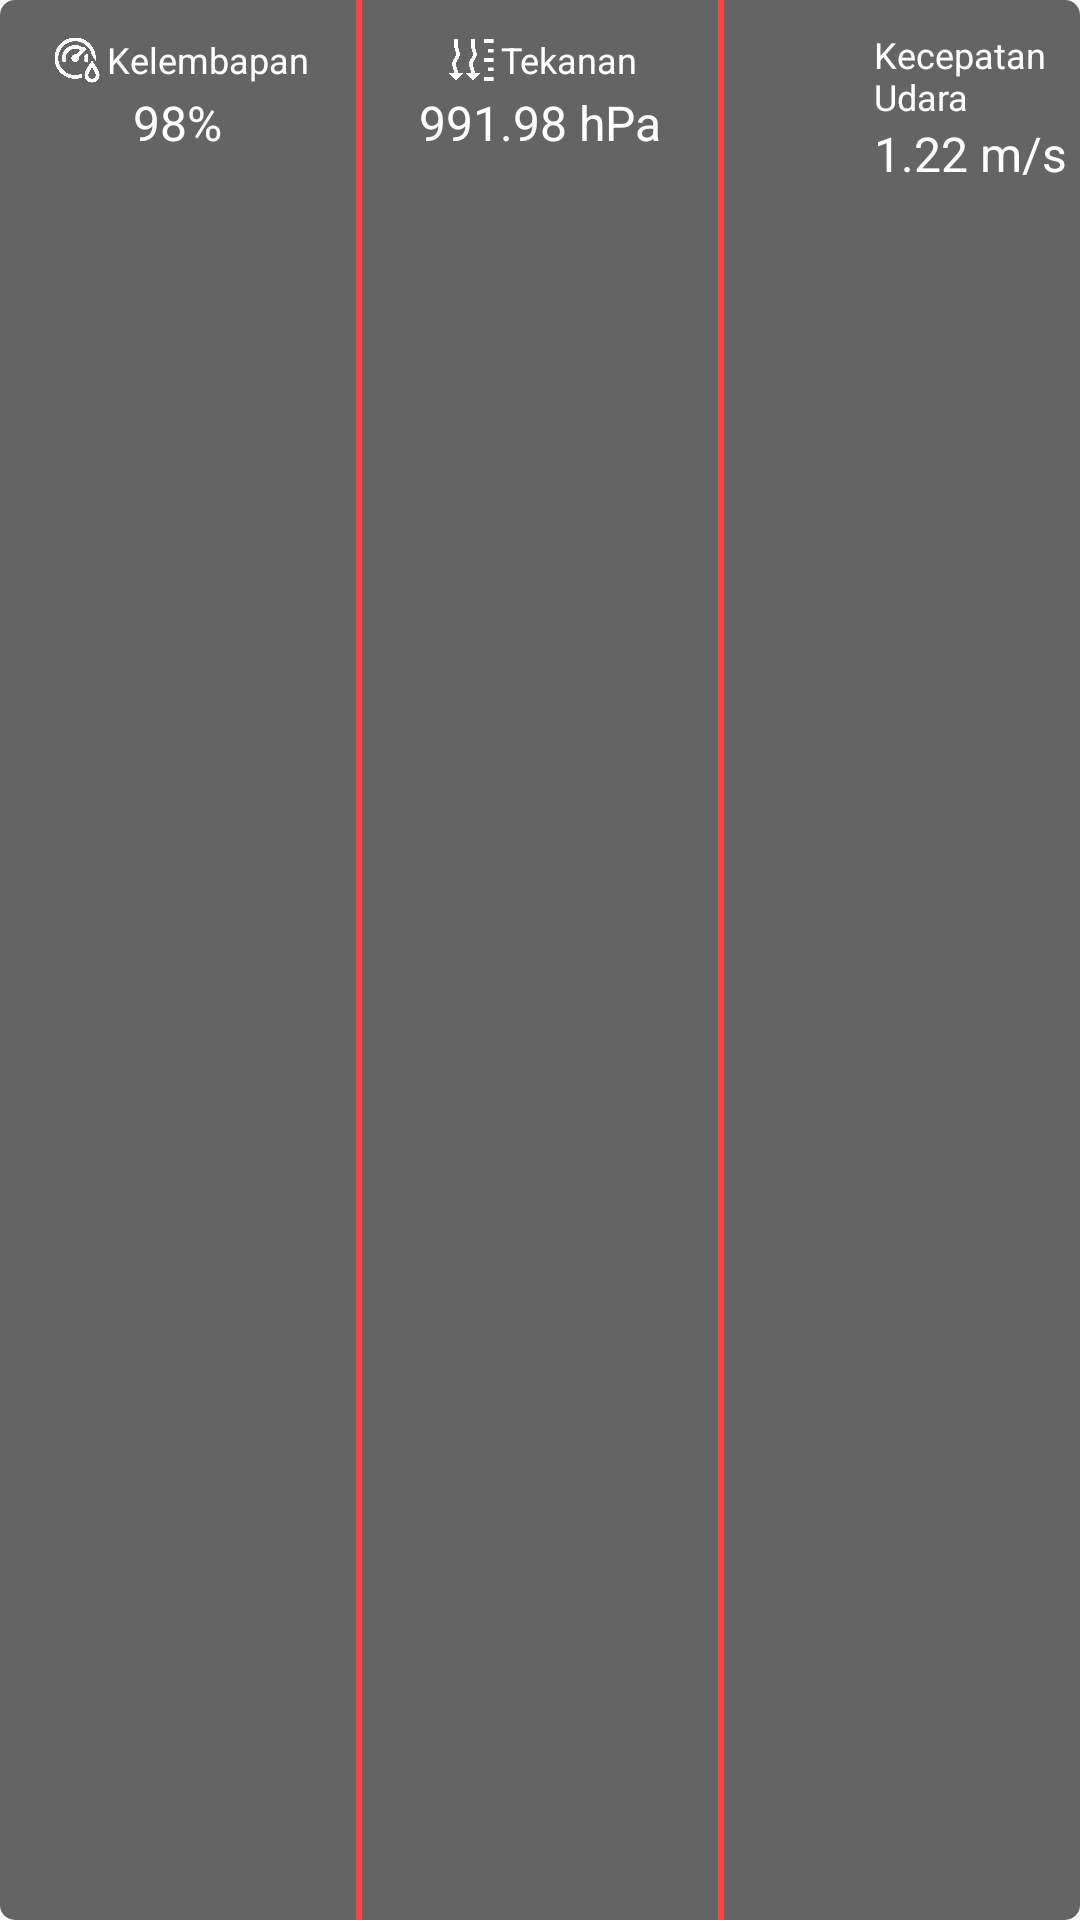

Icons on this 1080px x 1920px Android screen, each with its box as (x1, y1, x2, y2):
humidity: (55, 38, 100, 83)
pressure: (449, 39, 494, 81)
